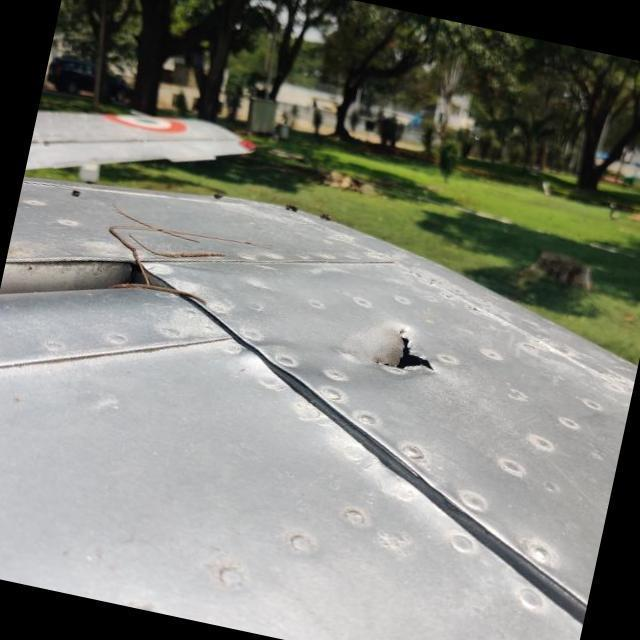Rupture: (361, 307, 458, 388)
